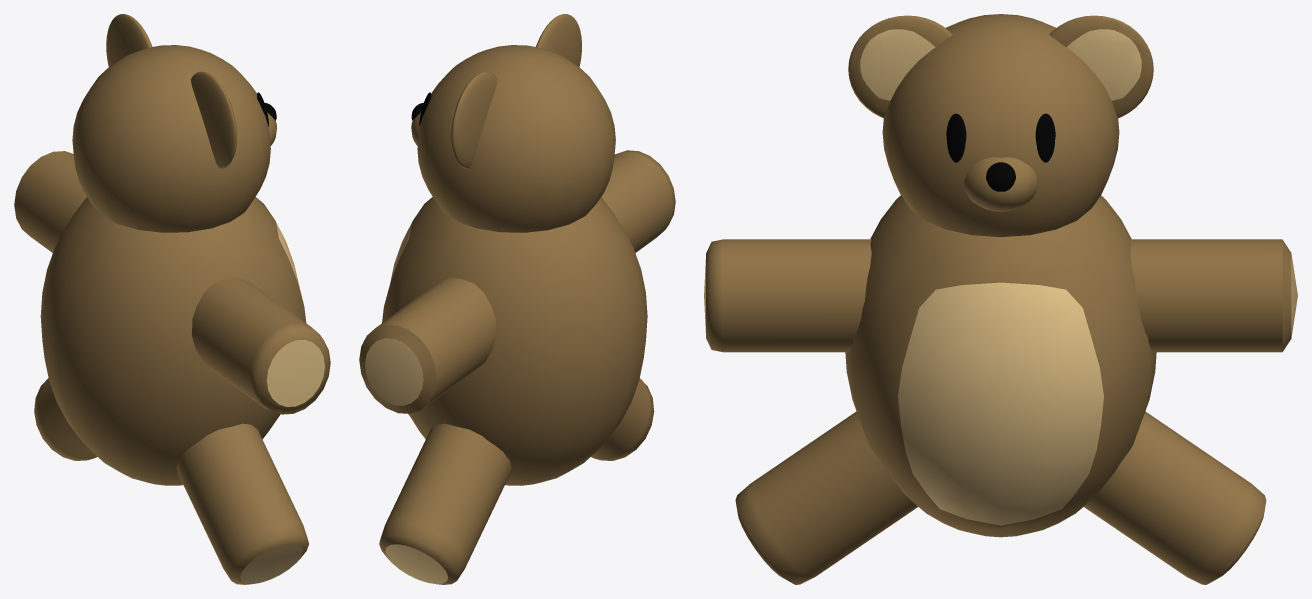
File: Teddy_Bear.fbx
3 views of the same model, side by side, from view 1: azimuth 30°, elevation 25°; view 2: azimuth 150°, elevation 25°; view 3: azimuth 270°, elevation 25° (orthographic). The views are drawn at different scales.
Visible parts, largest first — view 1: legR; view 2: legR; view 3: legR.
Part boxes in pixels (x1=…): legR: x1=14, y1=14, x2=330, y2=584; legR: x1=359, y1=14, x2=675, y2=584; legR: x1=704, y1=14, x2=1297, y2=584.
Bounding box in the file's own units: 2 × 3.99 × 3.8.
